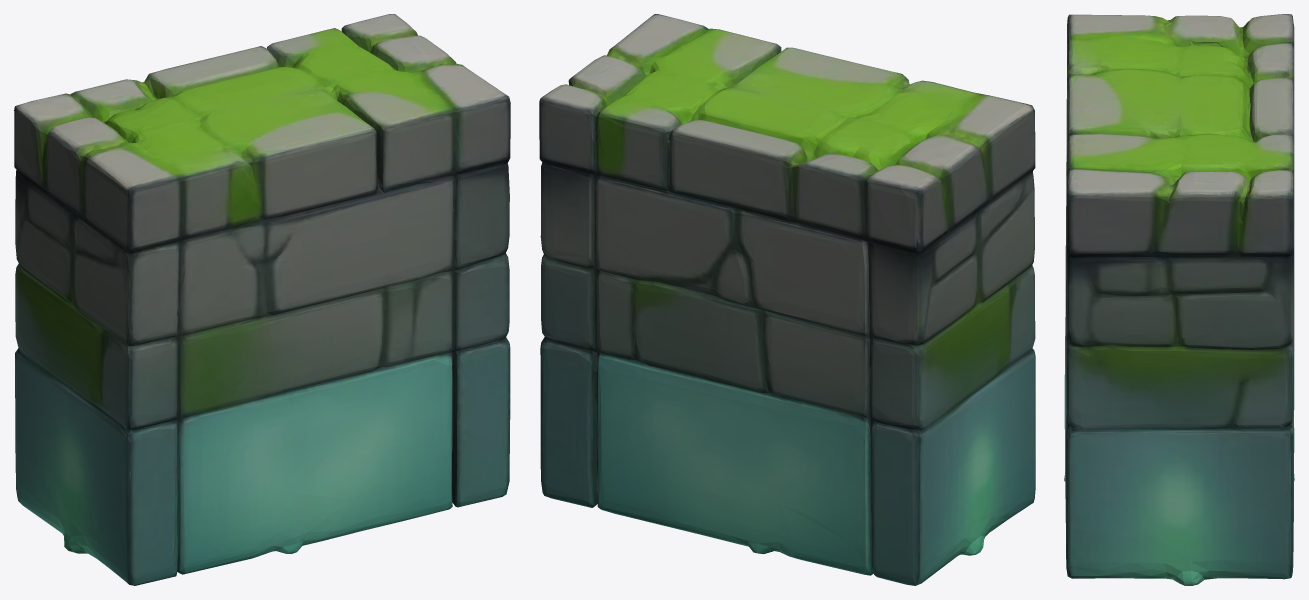
Rendered from tile_stonegrassy-2.glb.
The picture shows the model from 3 angles, left to right: view 1: azimuth 30°, elevation 25°; view 2: azimuth 150°, elevation 25°; view 3: azimuth 270°, elevation 25°; orthographic projection. The views are drawn at different scales.
Parts seen in each view (by area): view 1: world; view 2: world; view 3: world.
Boxes of the visible parts, x1,y1,x2,y2 form: world: [14, 14, 510, 585]; world: [539, 14, 1035, 585]; world: [1064, 14, 1294, 585].
Size of the model in its own units: 0.4919 by 0.492 by 0.2612.
Materials: 1 (1 with a texture image).
